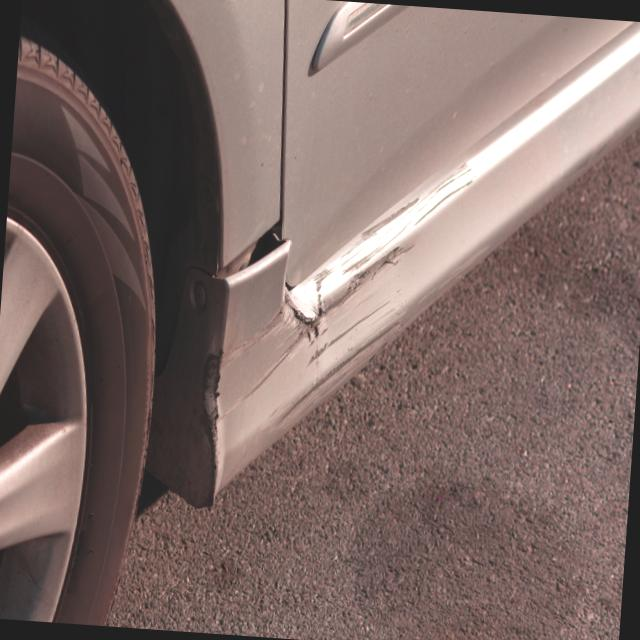Dechirure: (224, 212, 288, 299)
Rayure: (217, 138, 487, 514)
